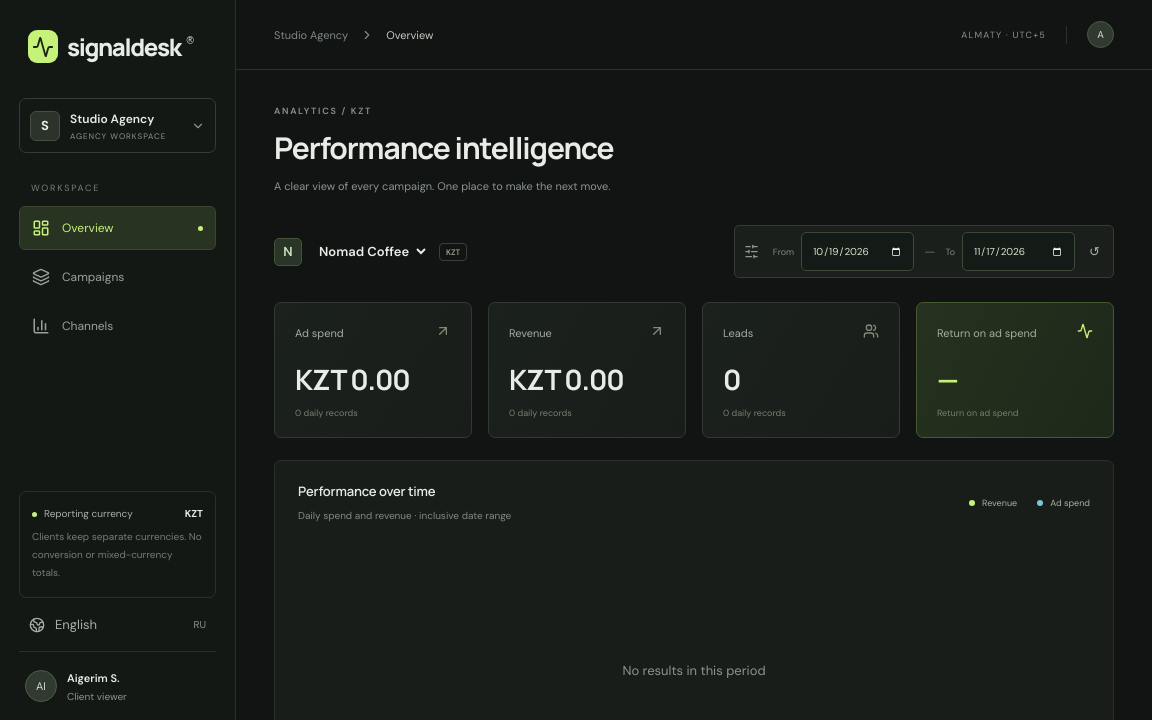
Independent QA principal UI acceptance › viewer has own report and no mutation actions; Russian controls and empty filter work
The width and height of the screenshot is (1152, 720).
Expected: the heading "Performance intelligence" is shown, [274,129,614,166]
Expected: the dropdown named "Clients" shows "Nomad Coffee", [312,234,429,269]
Type "2000-01-01" into the date field labelled "From" at (858, 252), box [801,232,914,271]
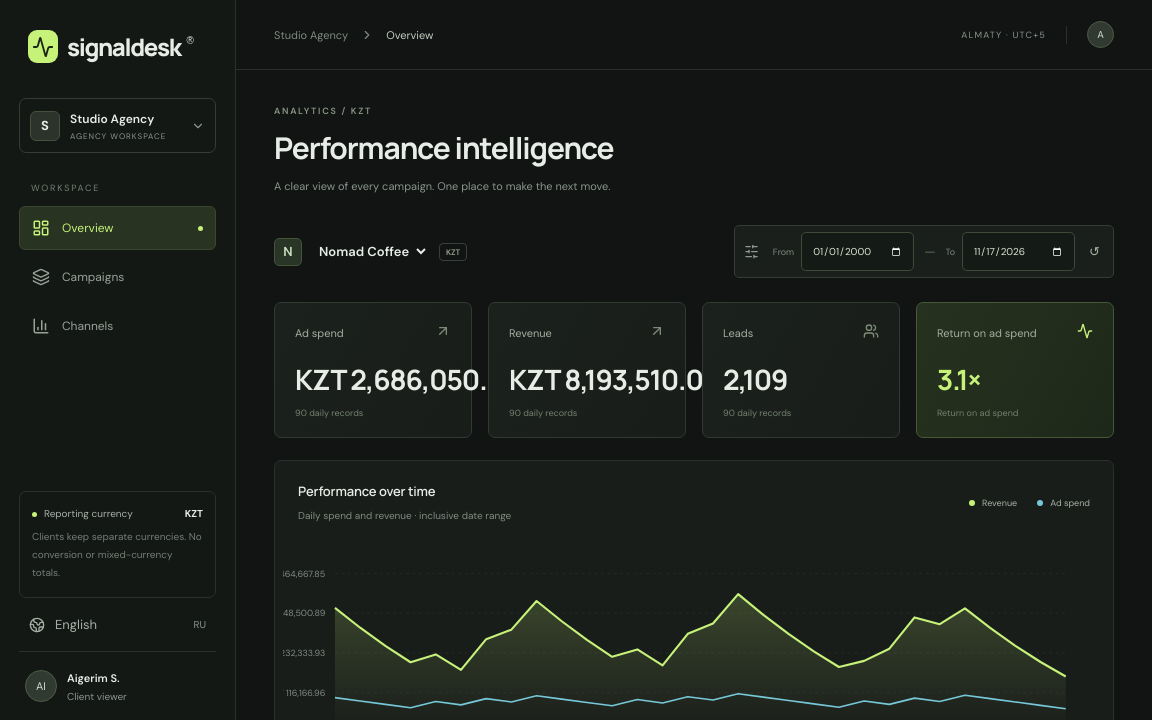
Type "2000-01-01" into the date field labelled "To" at (1019, 252), box [962,232,1075,271]
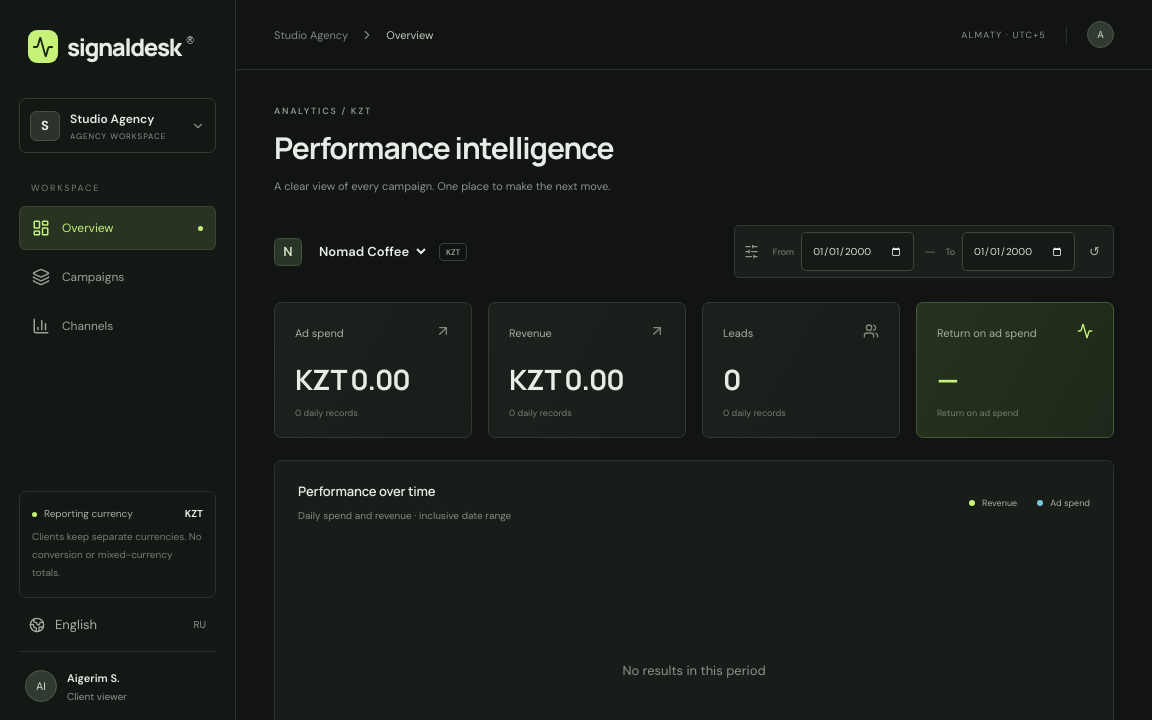
Expected: the text "No results in this period" is shown, [622,662,766,679]
Click the button "English RU" at (118, 624), box [19,598,216,651]
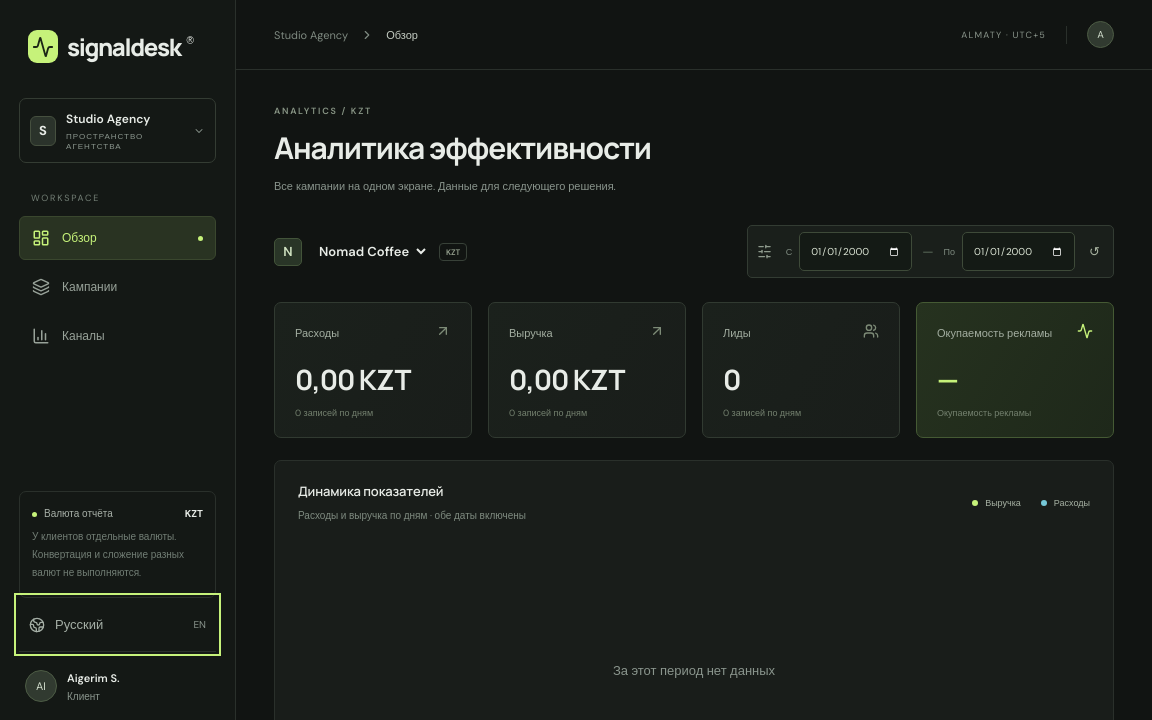
Expected: the dropdown named "Клиенты" shows "Nomad Coffee", [312,234,429,269]
Expected: the heading "Аналитика эффективности" is shown, [274,129,651,166]
